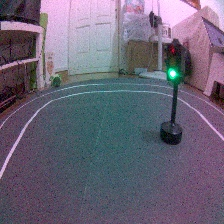green: (161, 38, 191, 147)
